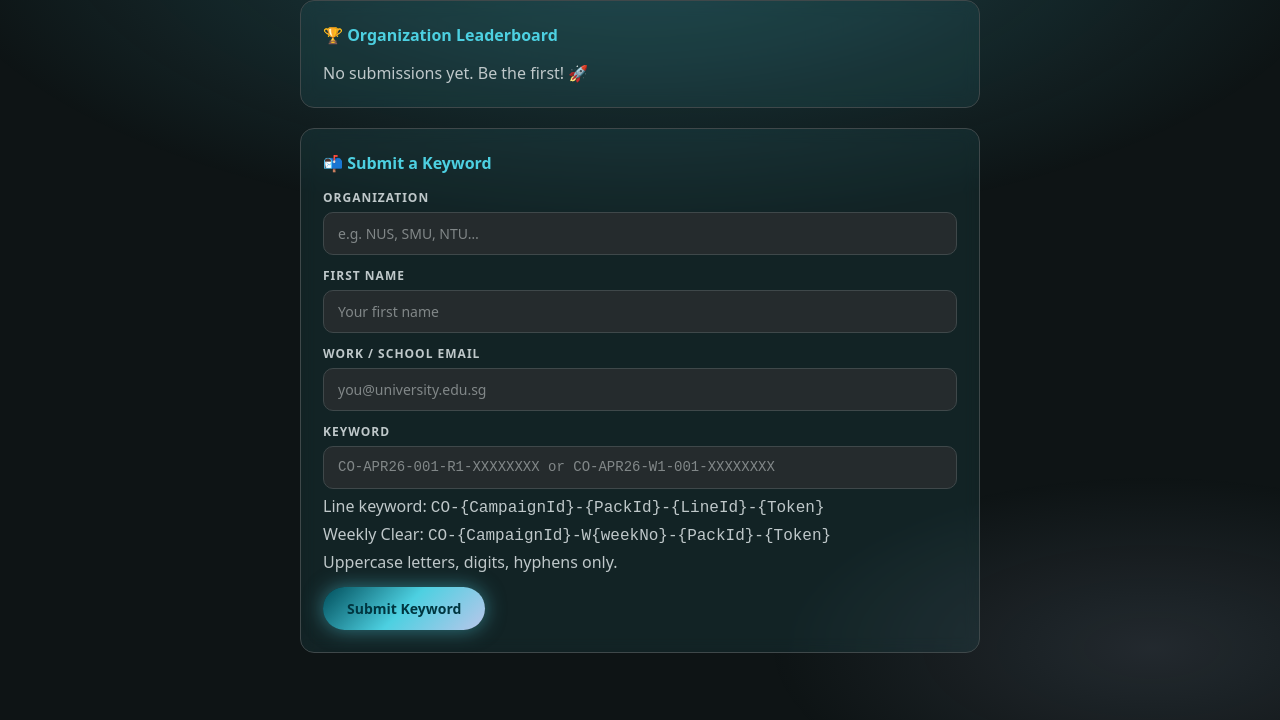
Test case: SubmitPanel › tells the user to type their org when the domain is unknown
This screenshot has width=1280, height=720.
Step 1. Type "ada@unknownco.xyz" into the field with placeholder "you@university.edu.sg" → (640, 390), box [323,368,957,411]
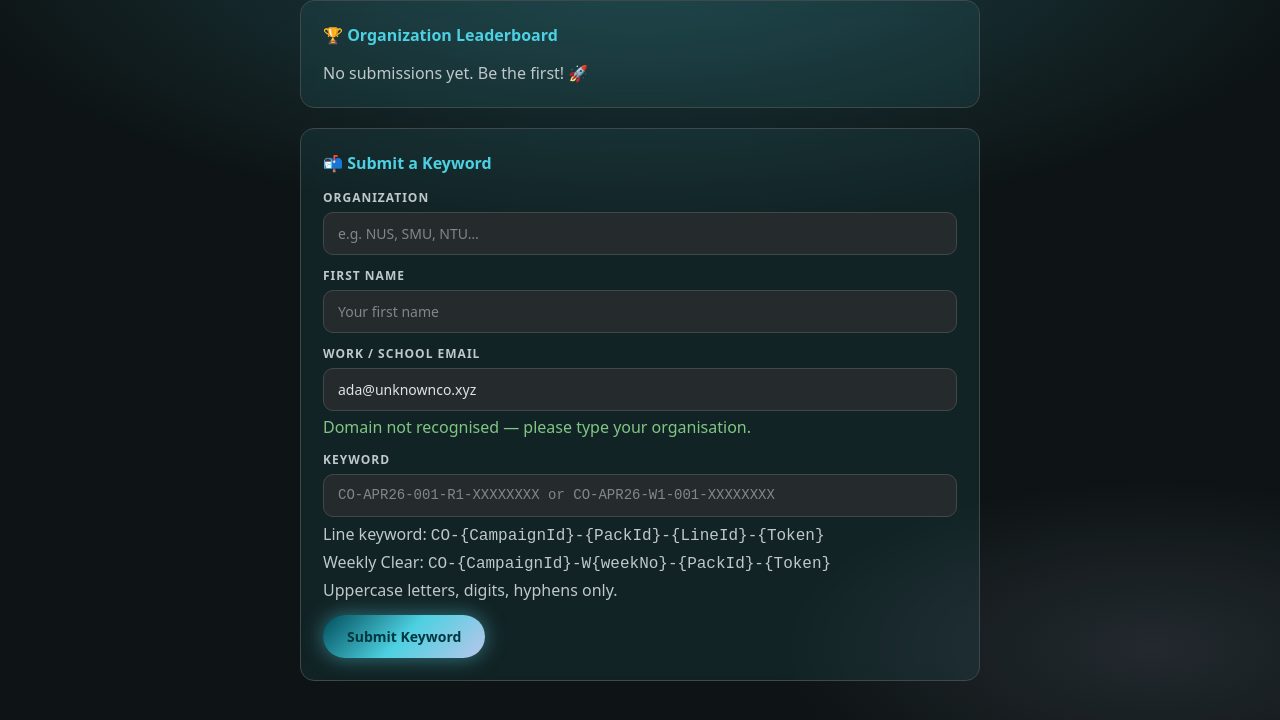
Expected: the text "Domain not recognised" is shown, [323,416,751,438]
